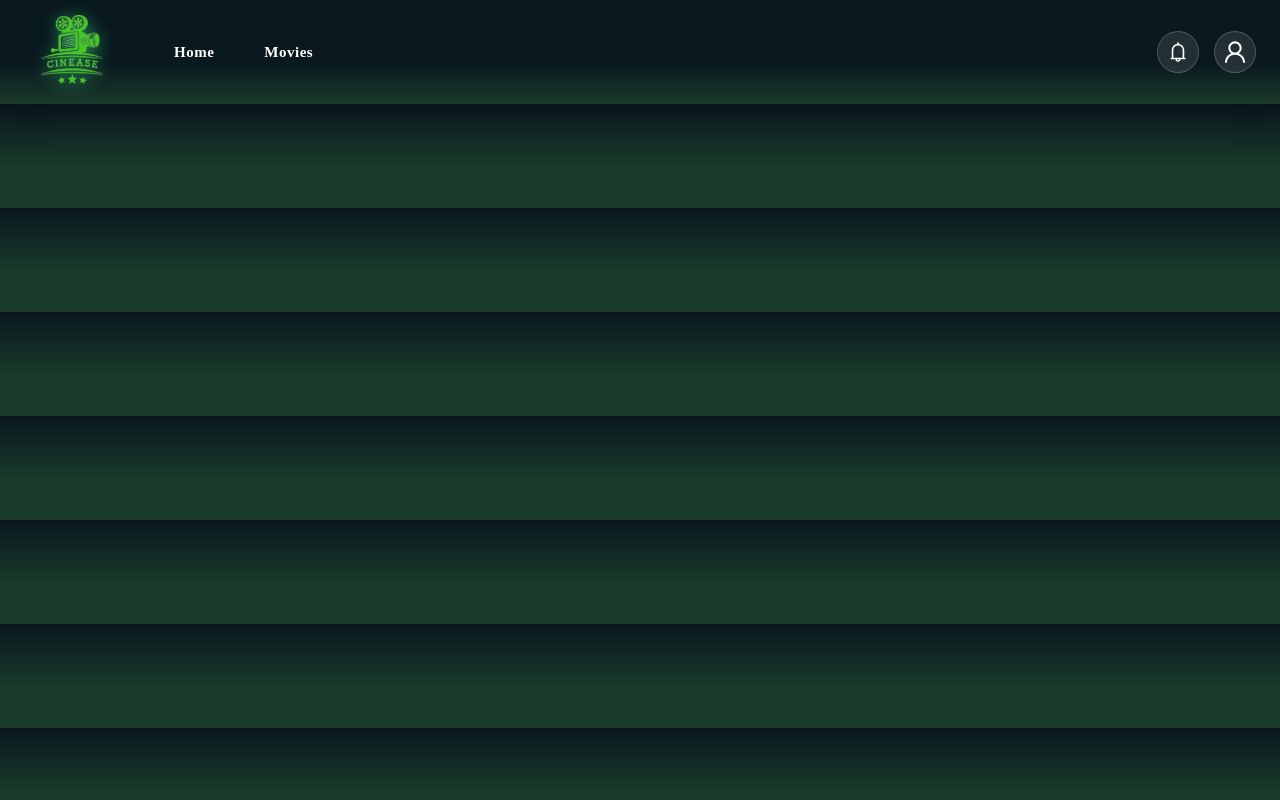
Test: Admin Header › shows avatar and dropdown when logged in as EMPLOYEE
This screenshot has width=1280, height=800.
Click the picture named "avatar".
click(1235, 52)  # box [1223, 40, 1247, 64]
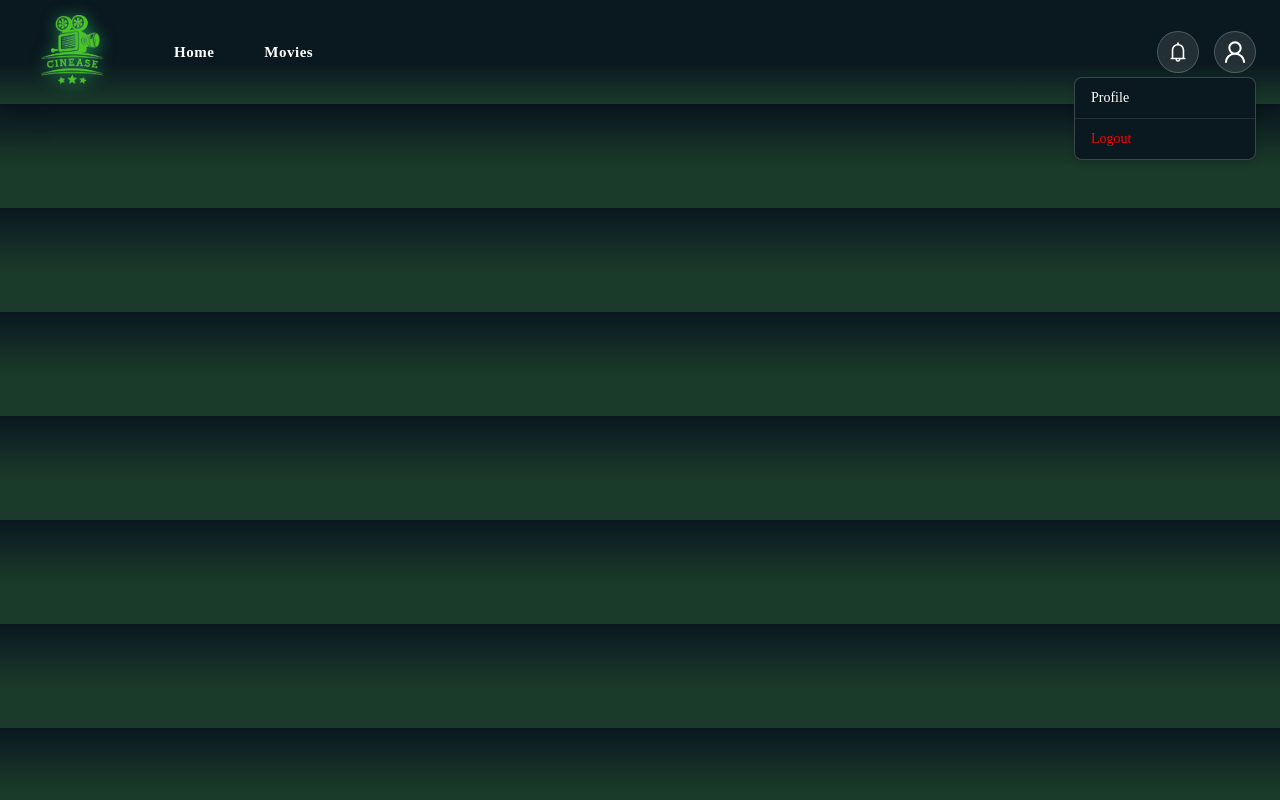
Expected: the text "Profile" is shown, [1091, 90, 1129, 105]
Expected: the text "Logout" is shown, [1075, 118, 1255, 159]
